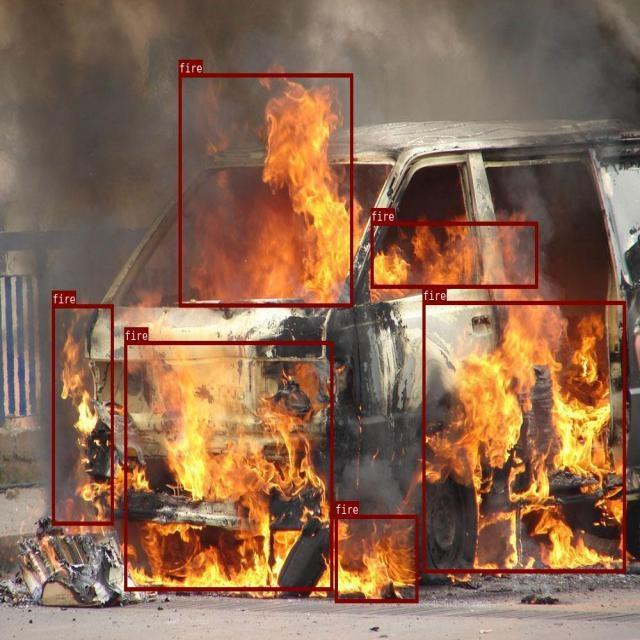fire: (422, 300, 625, 572), (124, 341, 333, 590), (179, 73, 352, 306), (52, 304, 113, 525), (371, 222, 538, 287), (335, 515, 418, 602)
